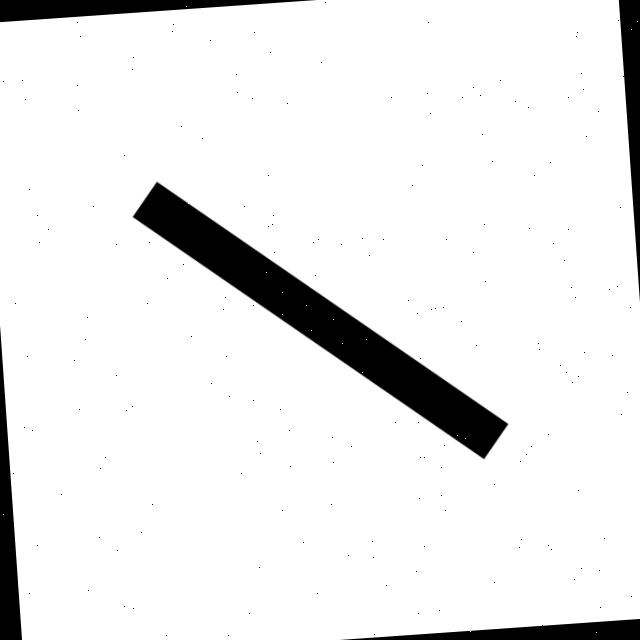line: (132, 181, 508, 458)
